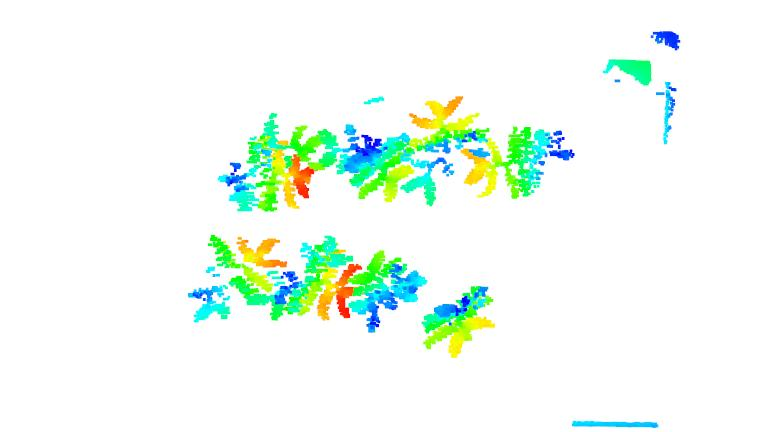chickpea: (218, 111, 323, 213), (399, 94, 482, 209), (187, 232, 286, 321), (465, 125, 575, 201), (320, 122, 414, 204), (348, 250, 425, 332), (283, 234, 356, 319), (420, 284, 499, 358)
